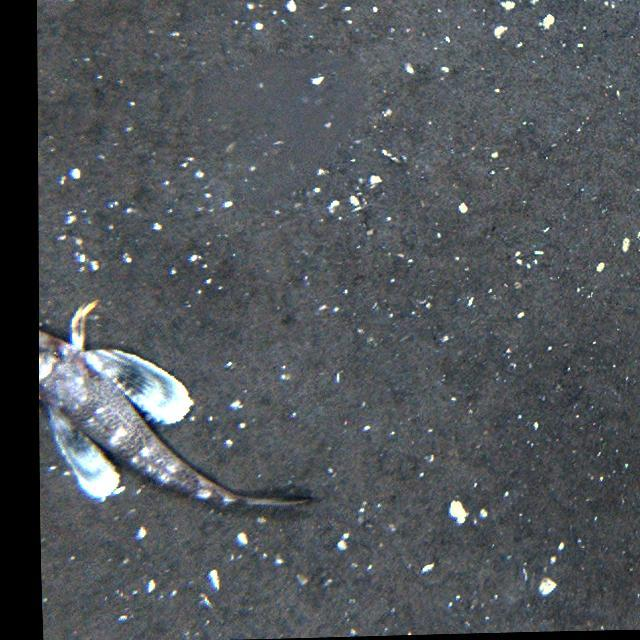roundfish: (41, 298, 314, 527)
